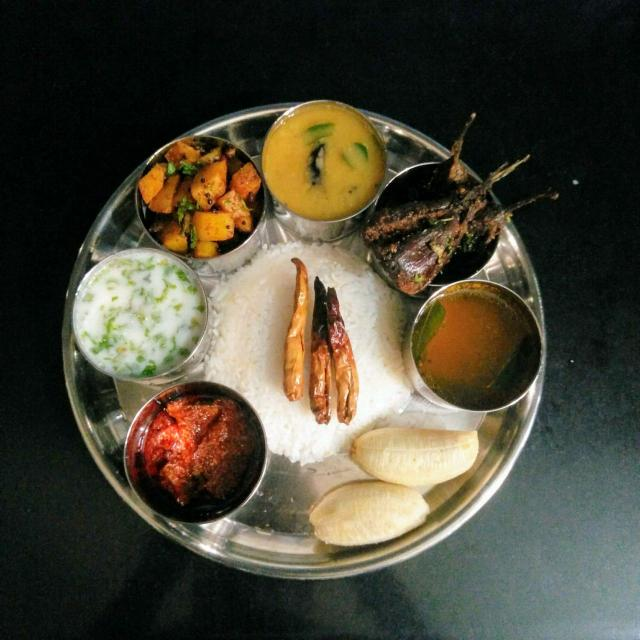veg meals: (60, 88, 550, 564)
